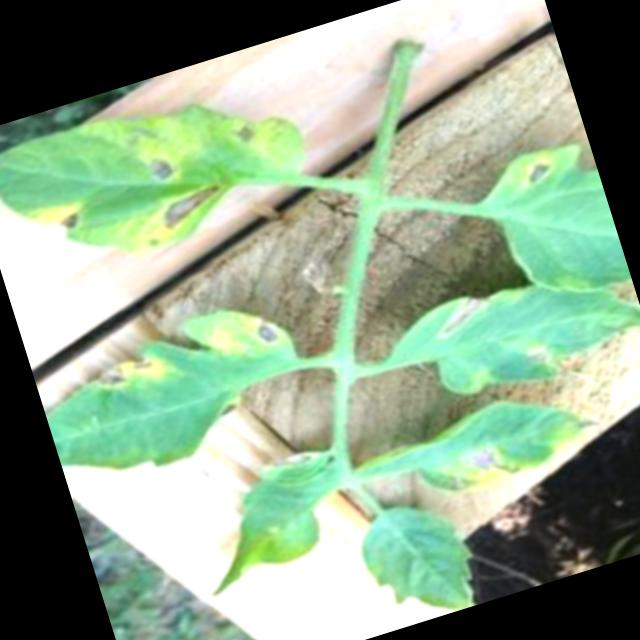Early_blight: (130, 180, 233, 252), (81, 343, 178, 403), (426, 285, 497, 344), (28, 195, 89, 244), (456, 443, 507, 492), (243, 312, 289, 359), (140, 151, 182, 188), (521, 154, 560, 188), (268, 449, 315, 476), (521, 344, 555, 373)
